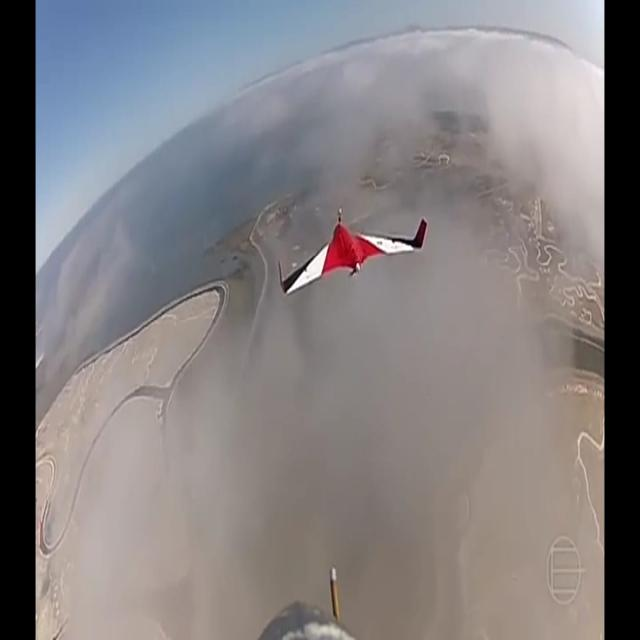iha: (277, 240, 428, 265)
